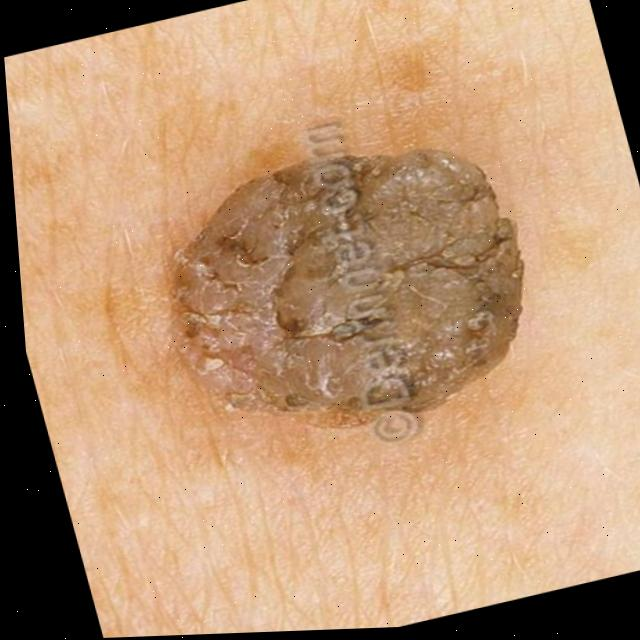Eczema: (164, 148, 549, 434)
